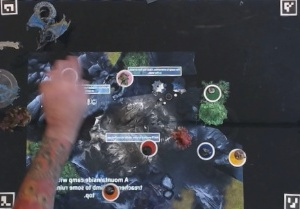blue: (197, 140, 217, 162)
green: (200, 83, 221, 104)
orange: (101, 178, 124, 202)
pink: (114, 66, 137, 90)
red: (137, 136, 161, 157)
yellow: (223, 148, 249, 166)
